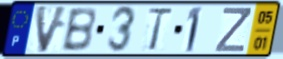1: (186, 5, 205, 54)
3: (105, 3, 138, 56)
B: (60, 6, 98, 53)
T: (146, 7, 175, 53)
V: (34, 4, 71, 55)
Z: (213, 6, 253, 54)
